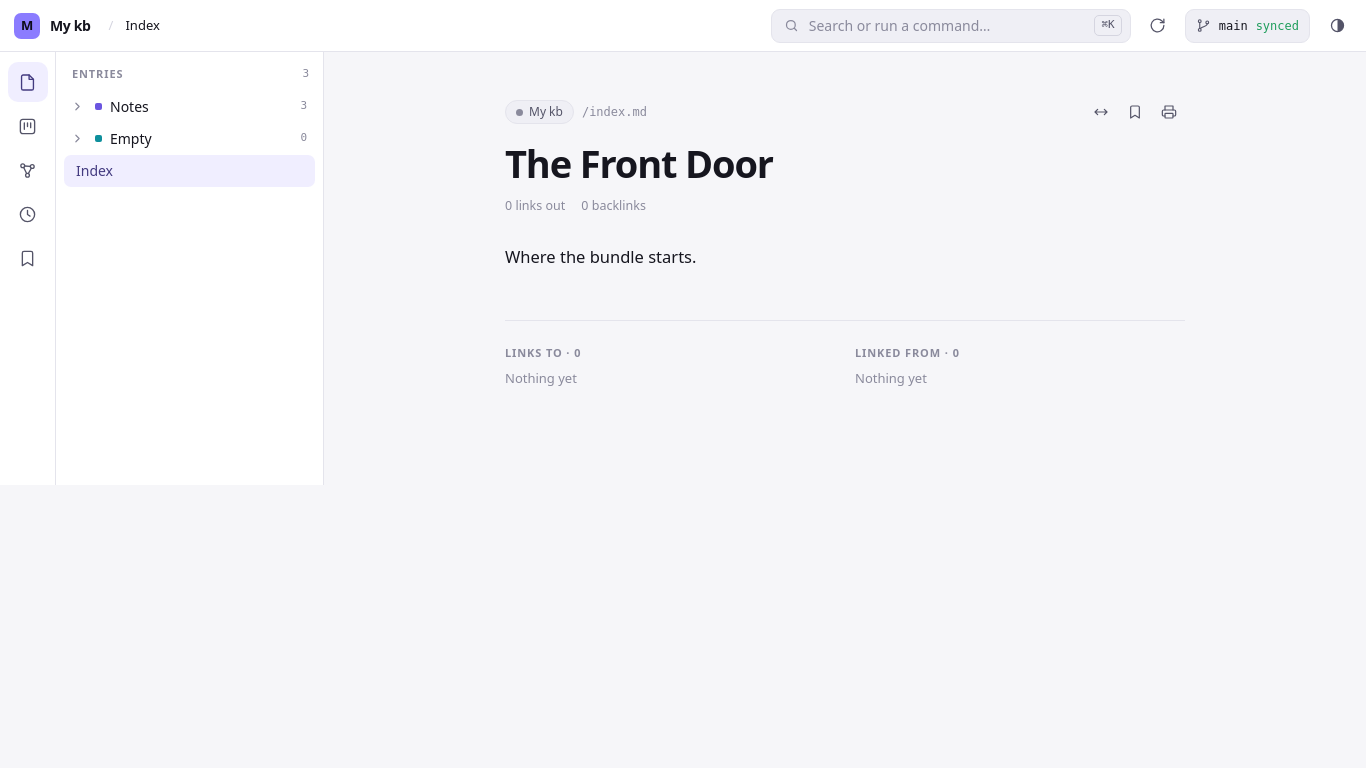
an action with nothing to do cannot be confirmed
Click the button with aria-label "Source control": (1247, 26) [1185, 8, 1310, 42]
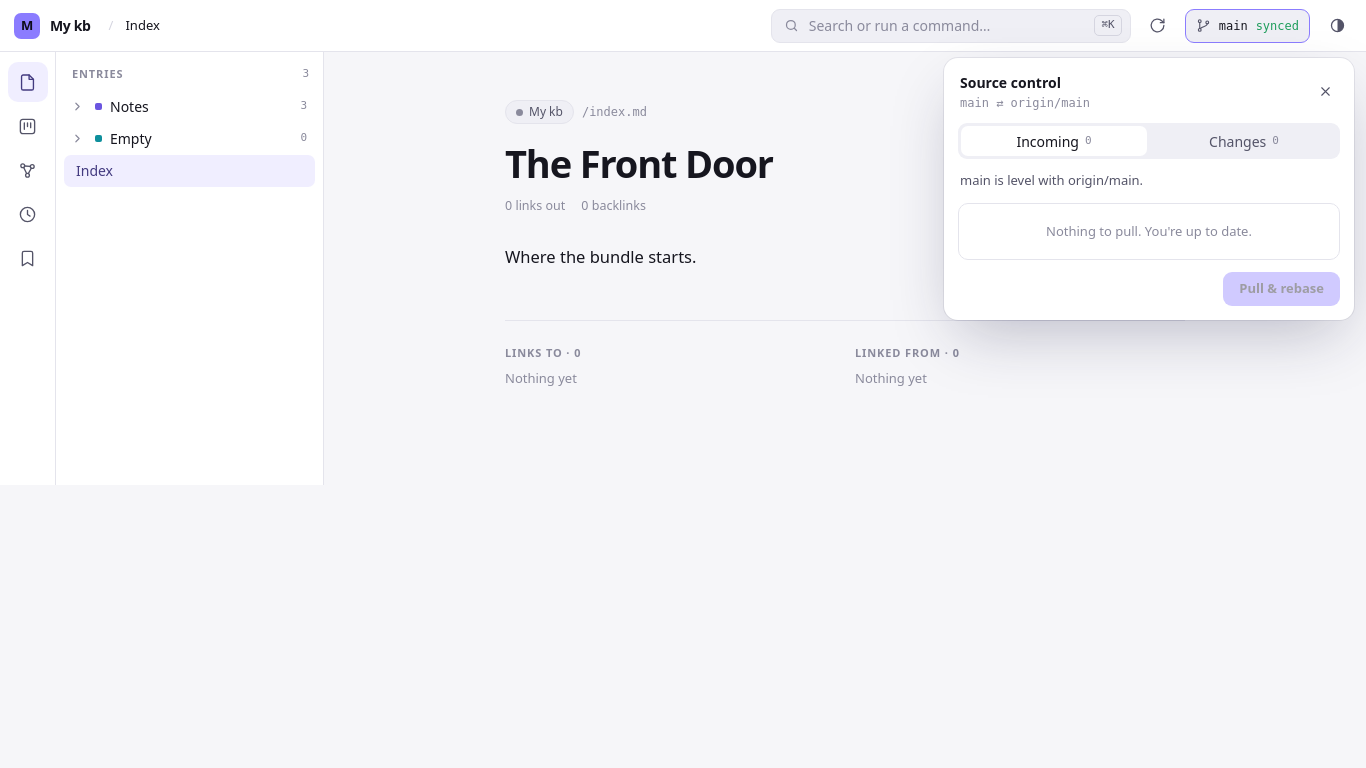
Click the tab "Changes 0": (1244, 141) [1151, 126, 1337, 156]
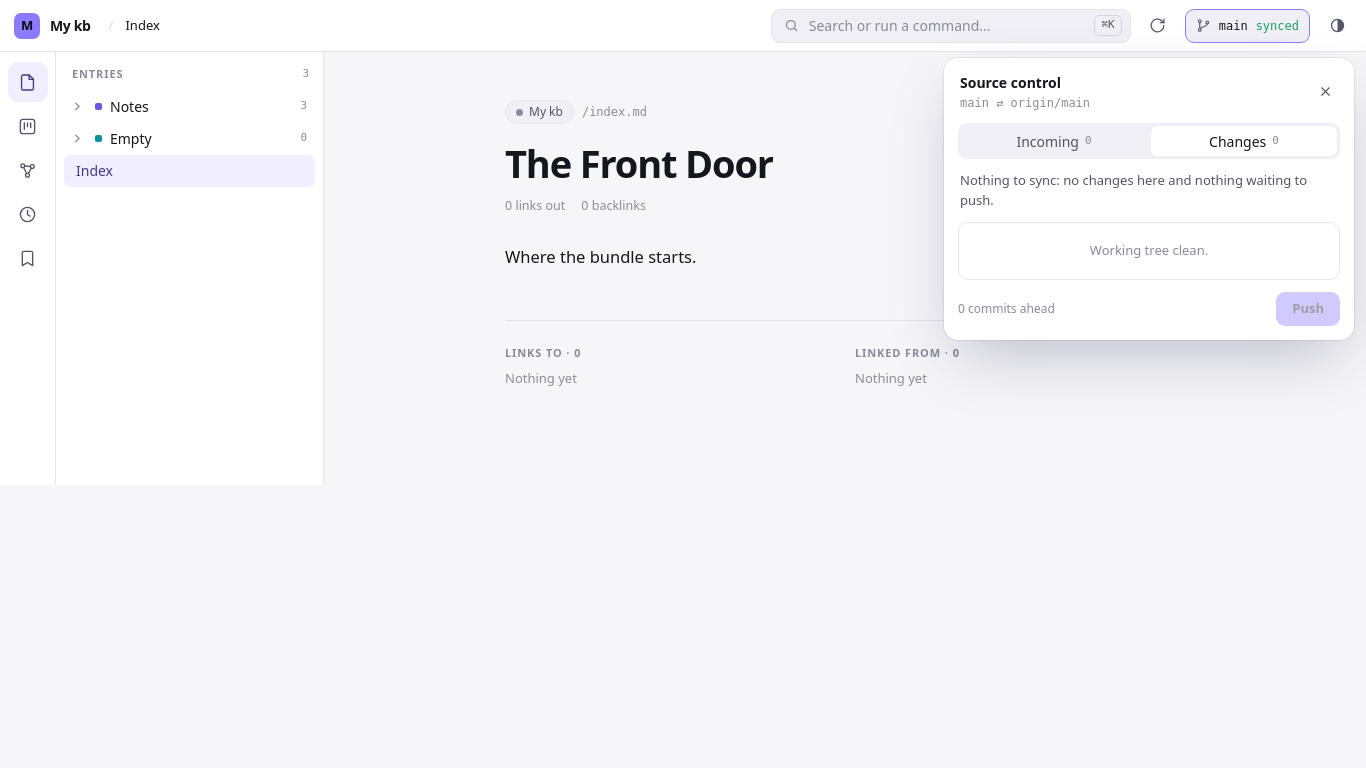
Now the button "Push" is disabled, box [1276, 292, 1340, 326]
Now the dialog named "Source control" shows "Nothing to sync", box [960, 171, 1307, 208]
